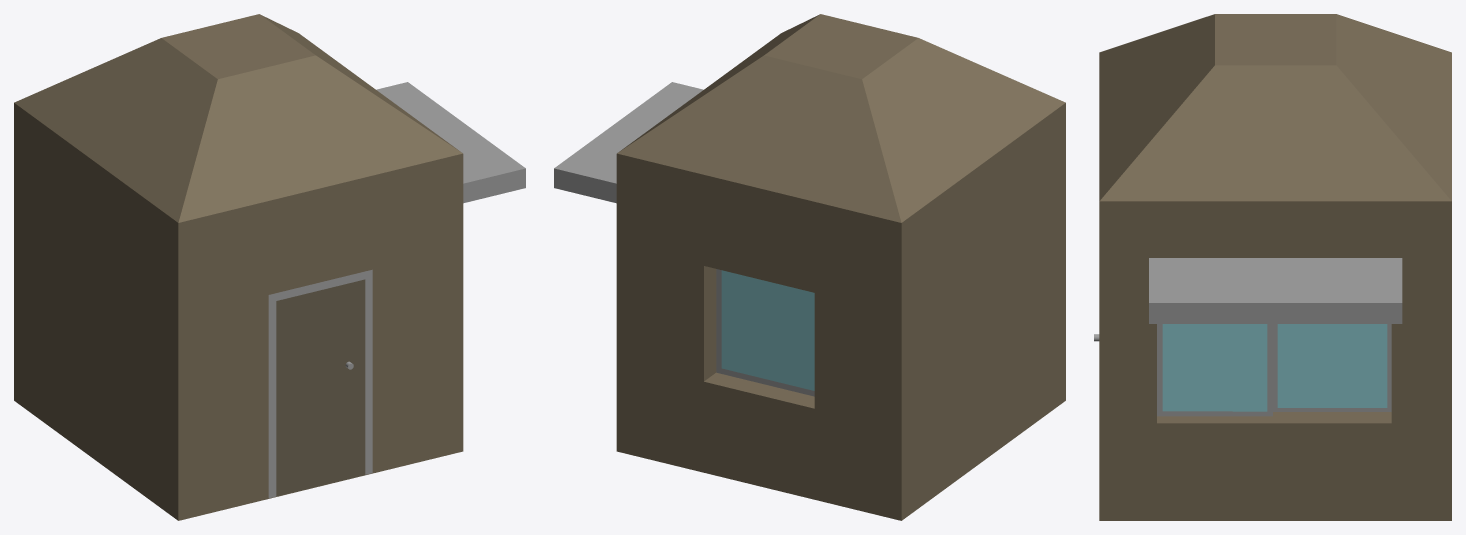
File: checkpoint_house.fbx
3 views of the same model, side by side, from view 1: azimuth 30°, elevation 25°; view 2: azimuth 150°, elevation 25°; view 3: azimuth 270°, elevation 25° (orthographic). The views are drawn at different scales.
Parts seen in each view (by area): view 1: Cube; view 2: Cube; view 3: Cube.
Part boxes in pixels (bbox=[...]): Cube: bbox=[14, 14, 525, 520]; Cube: bbox=[554, 14, 1065, 520]; Cube: bbox=[1094, 14, 1451, 520].
Size of the model in its own units: 488 by 478 by 381.
